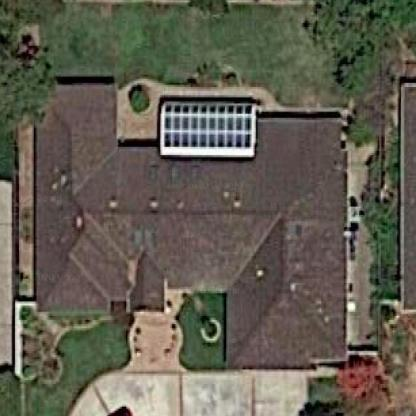solar_panel: (162, 91, 275, 175)
